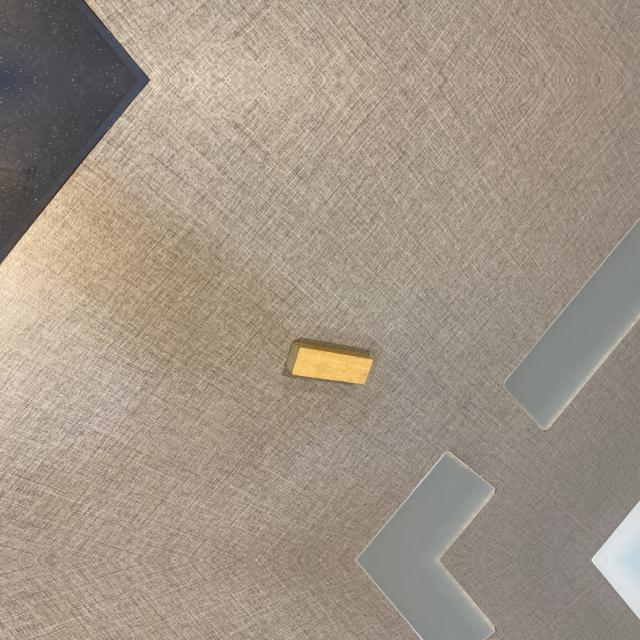jenga: (283, 338, 375, 386)
